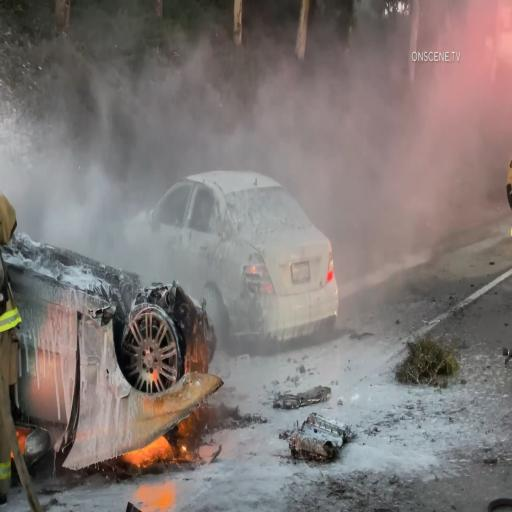fire: (127, 434, 171, 467)
smoke: (264, 72, 509, 282), (82, 20, 259, 172)
